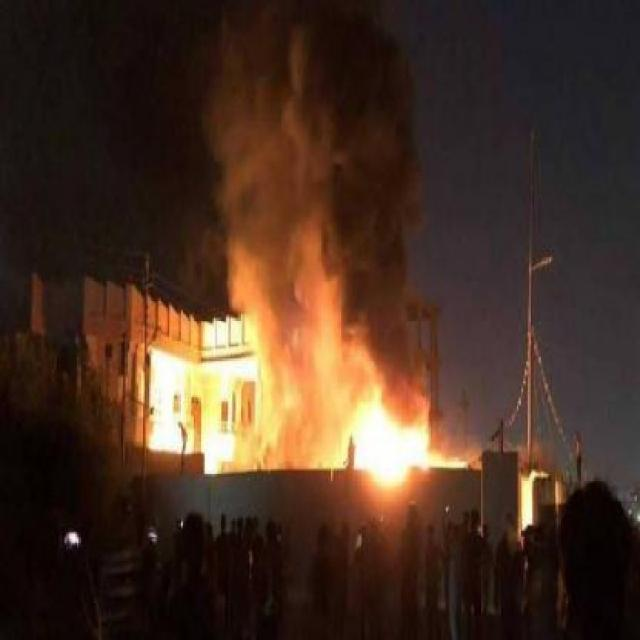Fire: (228, 282, 350, 466), (360, 398, 442, 490), (144, 349, 187, 457), (200, 320, 246, 346), (202, 436, 232, 472), (208, 356, 257, 378), (519, 472, 535, 526)
Smoke: (217, 0, 419, 272), (352, 277, 414, 386)
